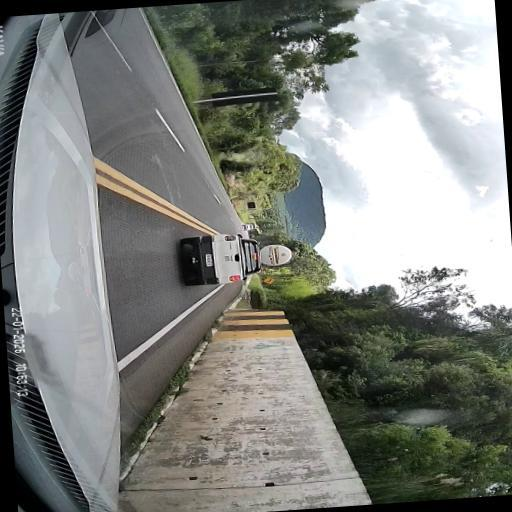A-2a: (262, 276, 274, 285)
